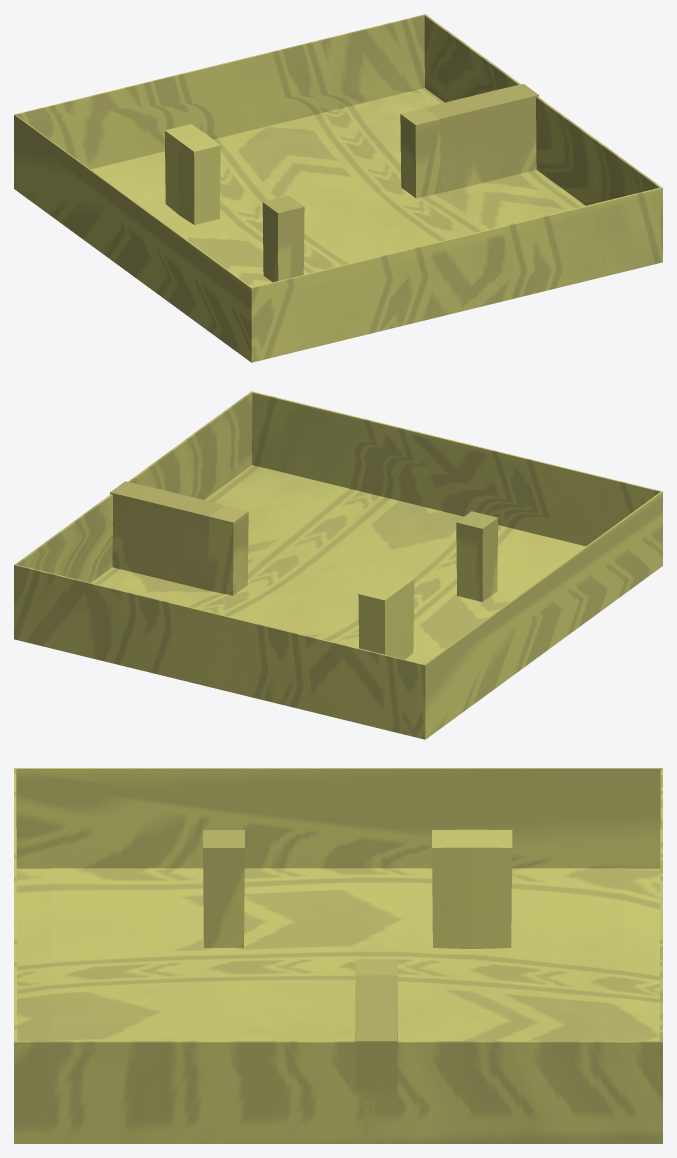
The model's file is front_rooms.fbx.
The picture shows the model from 3 angles, top to bottom: view 1: azimuth 30°, elevation 25°; view 2: azimuth 150°, elevation 25°; view 3: azimuth 270°, elevation 25°; orthographic projection. The views are drawn at different scales.
Parts seen in each view (by area): view 1: Plane; view 2: Plane; view 3: Plane.
Part boxes in pixels (<box>): Plane: <box>14,14,662,362</box>; Plane: <box>14,391,662,739</box>; Plane: <box>14,768,662,1143</box>.
Bounding box in the file's own units: 2906 × 510 × 2898.
1 material, 1 textured.
